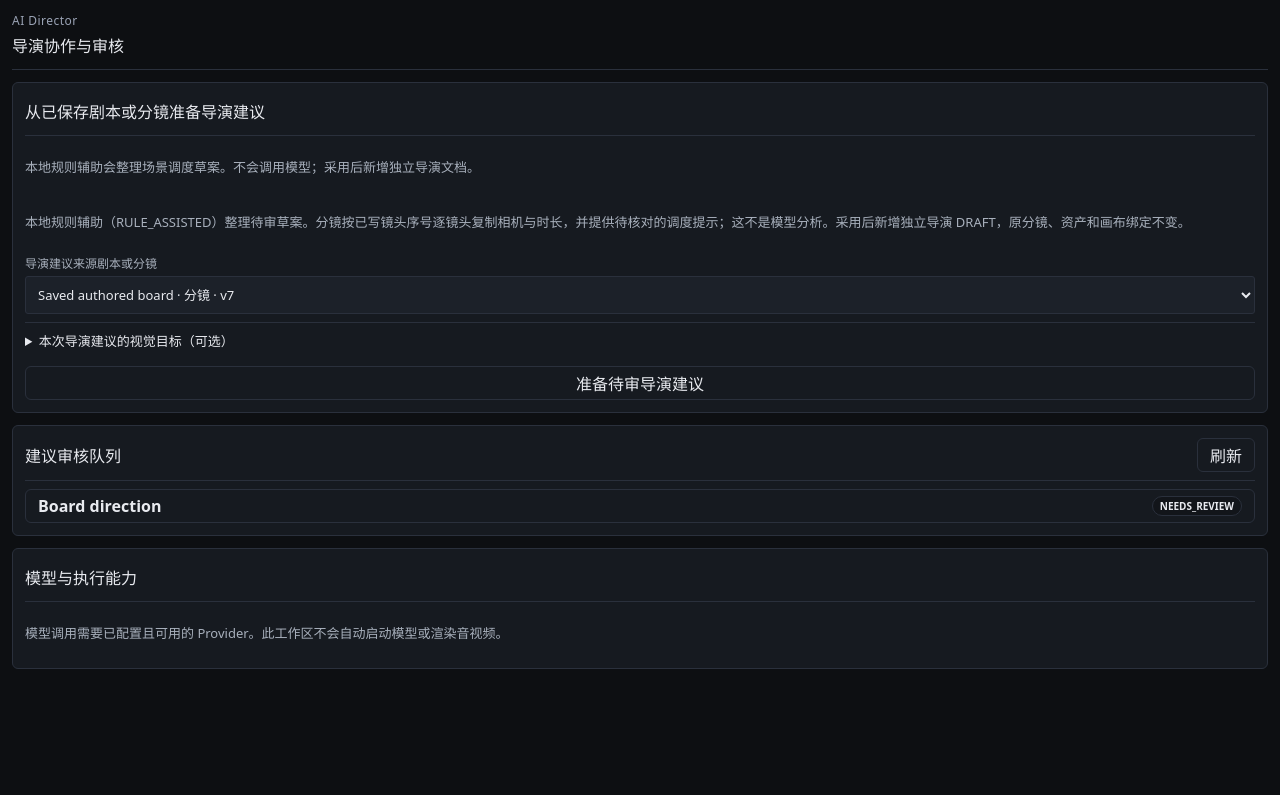
it: fails closed for missing storyboard source provenance without reading model routes
This screenshot has width=1280, height=795.
What coordinates should you click on to do the following:
click the button "Board direction NEEDS_REVIEW"
I would click on:
 (100, 506)
Its box is top-left (25, 489), bottom-right (1255, 523).
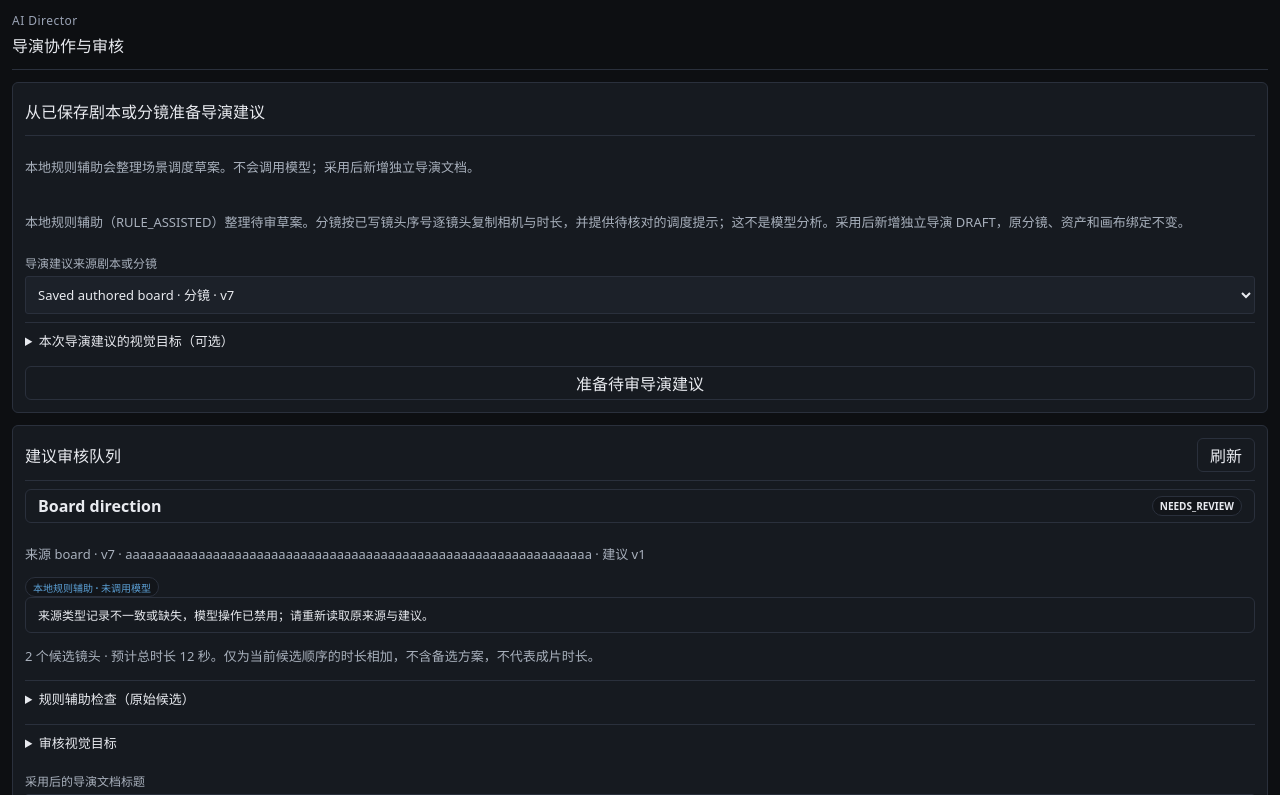
expect the text "来源类型记录不一致或缺失，模型操作已禁用；请重新读取原来源与建议。" is shown: met, box top-left (25, 597), bottom-right (1255, 633)
